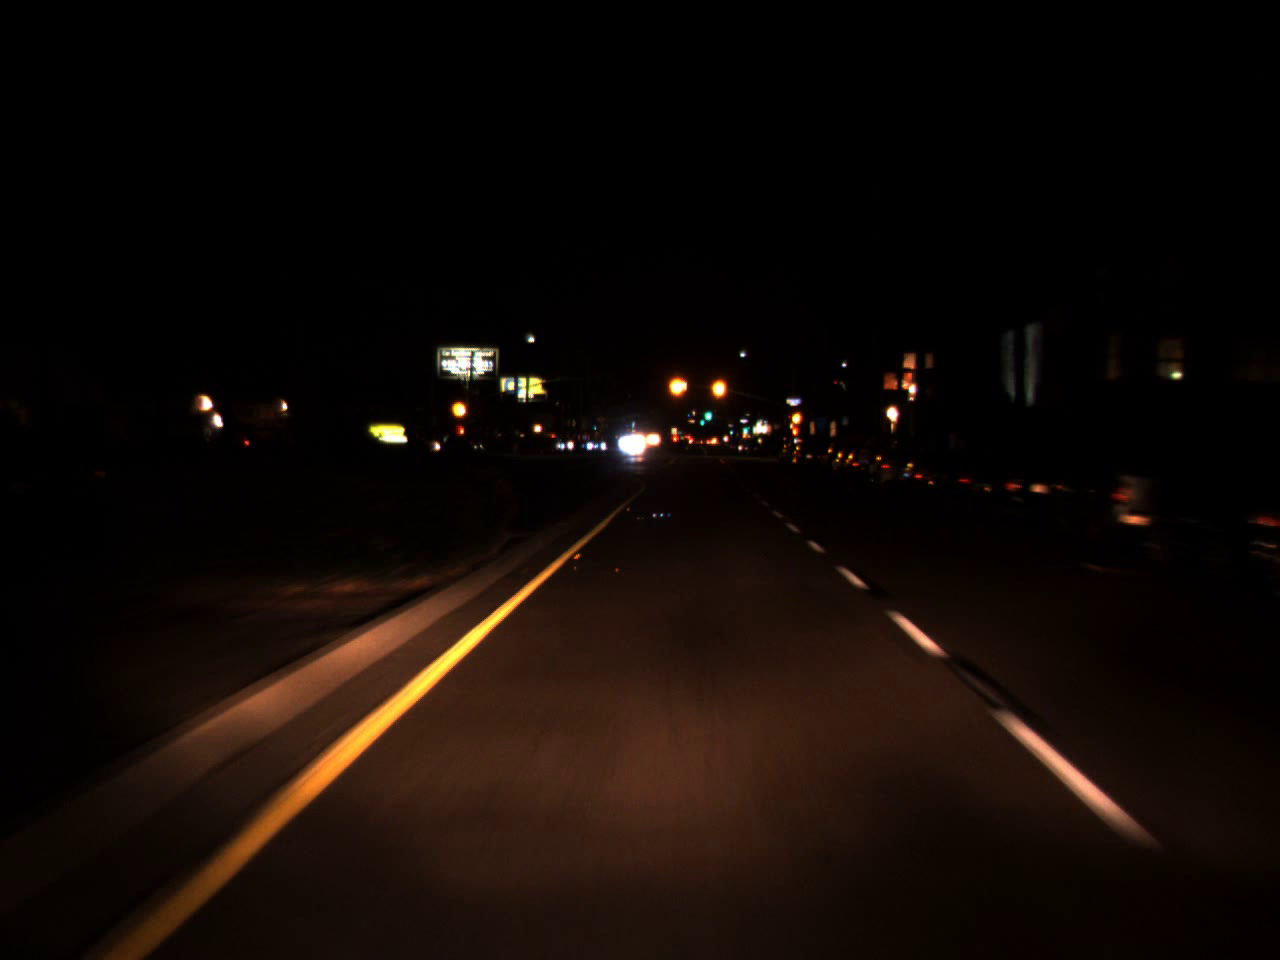go: (701, 400, 713, 424), (742, 422, 749, 434)
warning: (664, 363, 691, 408), (708, 365, 729, 410), (450, 390, 469, 427), (789, 405, 802, 427)
